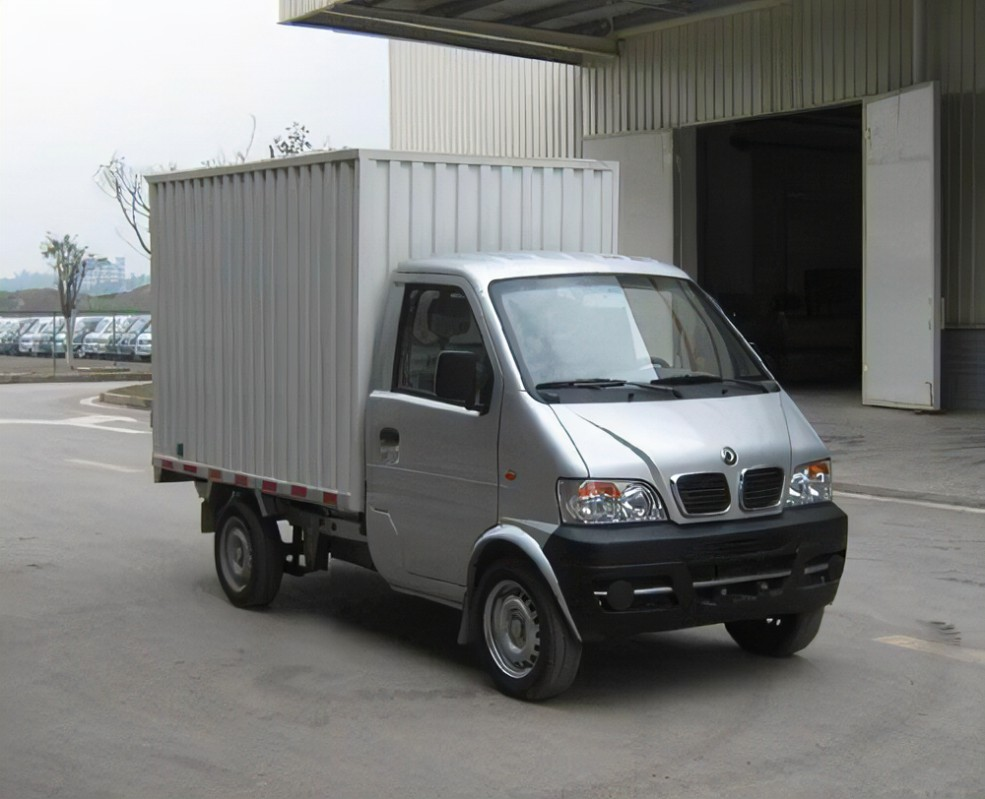smalltruck: (119, 113, 862, 713)
